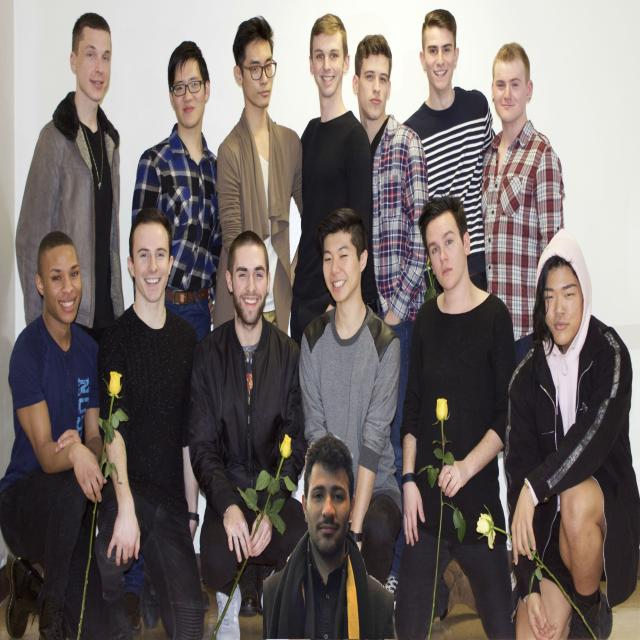body: (497, 221, 640, 640), (392, 190, 523, 640), (92, 203, 207, 640), (186, 230, 308, 616), (0, 227, 110, 640), (352, 35, 430, 612), (297, 207, 403, 588), (15, 11, 126, 348), (213, 12, 304, 336), (261, 429, 399, 640), (289, 12, 376, 346), (478, 38, 566, 360), (130, 39, 223, 341), (399, 7, 496, 296)
